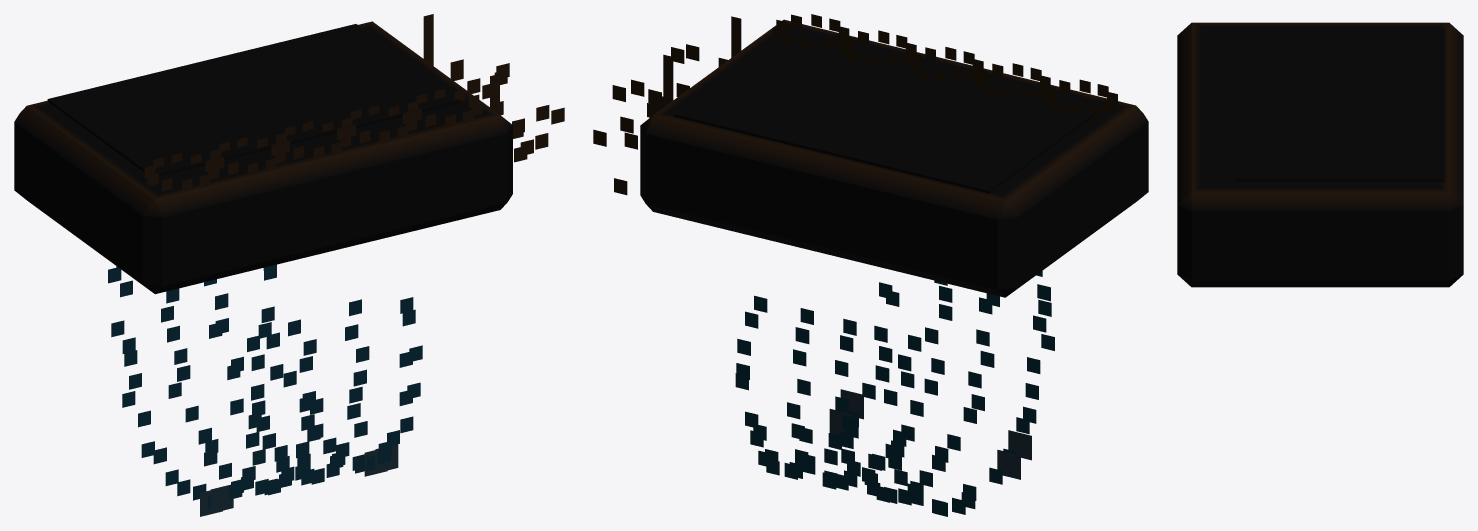
File: wrist_deck.glb
3 renders of one model, left to right at view 1: azimuth 30°, elevation 25°; view 2: azimuth 150°, elevation 25°; view 3: azimuth 270°, elevation 25°, orthographic.
Parts seen in each view (by area): view 1: deck_body, deck_screen, deck_strap, deck_slots, deck_board, deck_buckles, deck_wires; view 2: deck_body, deck_screen, deck_strap, deck_slots, deck_board, deck_buckles, deck_wires; view 3: deck_body, deck_screen.
Part boxes in pixels (x1,y1,x2,y2): deck_body: [14, 21, 512, 294]; deck_screen: [47, 24, 460, 176]; deck_strap: [108, 264, 422, 509]; deck_slots: [144, 89, 482, 191]; deck_board: [450, 59, 564, 162]; deck_buckles: [200, 444, 398, 516]; deck_wires: [423, 14, 499, 114]; deck_body: [640, 19, 1148, 297]; deck_screen: [674, 37, 1093, 193]; deck_strap: [735, 271, 1054, 516]; deck_slots: [773, 14, 1117, 118]; deck_board: [593, 44, 727, 195]; deck_buckles: [829, 389, 1031, 479]; deck_wires: [663, 16, 741, 107]; deck_body: [1177, 22, 1463, 287]; deck_screen: [1234, 28, 1444, 181].
Bounding box in the file's own units: 0.1085 × 0.0919 × 0.06.
